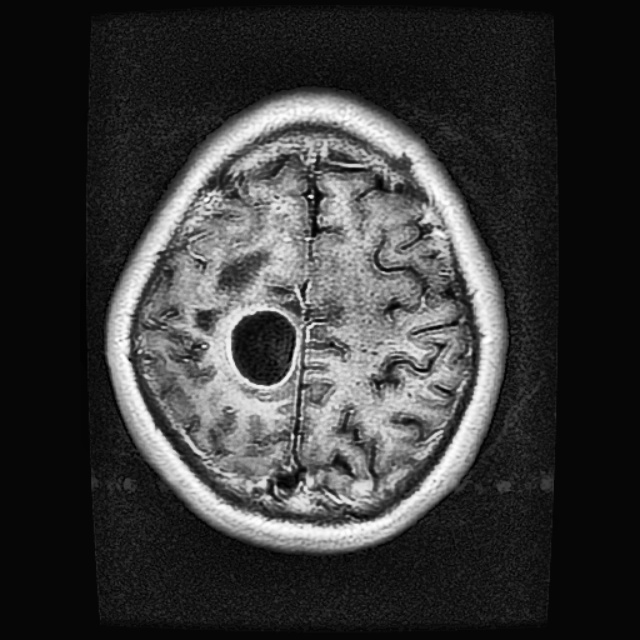Pituitary: (227, 303, 299, 388)
